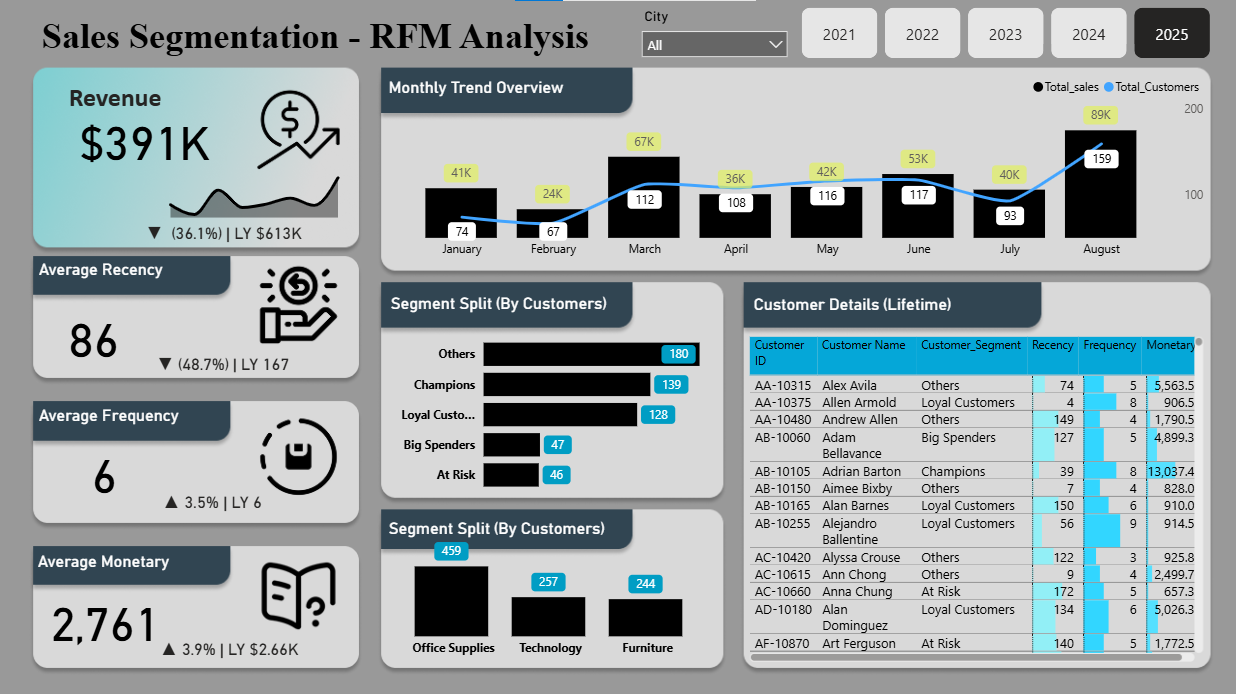

This screenshot's page, from the dashboard's own definition file:
{"tool":"powerbi","page":{"name":"Page 1","canvas":[1280,720],"ordinal":0},"visuals":[{"type":"textbox","box":[38.6,10,588.6,55.7],"z":0},{"type":"card","fields":{"Values":["My_Measures.Total_sales"]},"box":[44.3,107.1,210,71.4],"z":1000},{"type":"textbox","box":[65.7,80,145.7,52.9],"z":2000},{"type":"card","fields":{"Values":["My_Measures.AvgFrequency"]},"box":[75.7,454.3,64.3,67.1],"z":3000},{"type":"card","fields":{"Values":["My_Measures.AvgRecency"]},"box":[43.9,316.1,106.3,59.5],"z":4000},{"type":"card","fields":{"Values":["My_Measures.AvgMonetary"]},"box":[41.4,602.9,134.3,74.3],"z":5000},{"type":"textbox","box":[35.4,263.6,175.7,36.9],"z":6000},{"type":"textbox","box":[35.4,415.3,202.7,53.9],"z":7000},{"type":"textbox","box":[34,565.5,202.7,52.4],"z":8000},{"type":"card","fields":{"Values":["RFM_Calculation.YoY SalesVariance"]},"box":[129,222.5,204.1,38.3],"z":9000},{"type":"card","fields":{"Values":["My_Measures.YoY RecencyVar"]},"box":[140,362.9,181.4,25.7],"z":10000},{"type":"card","fields":{"Values":["My_Measures.YoY FrequencyVar"]},"box":[134.3,505.7,170,28.6],"z":11000},{"type":"card","fields":{"Values":["My_Measures.YoY MonetaryVar"]},"box":[150,657.1,174.3,31.4],"z":12000},{"type":"lineChart","fields":{"Category":["Date_Table.Month Number"],"Y":["My_Measures.Total_sales"]},"box":[136.1,163,228.2,66.6],"z":13000},{"type":"lineStackedColumnComboChart","fields":{"Y":["My_Measures.Total_sales"],"Category":["Date_Table.Month Name"],"Y2":["My_Measures.Total_Customers"]},"box":[397.1,70,852.9,205.7],"z":14000},{"type":"textbox","box":[397.1,75.7,277.1,52.9],"z":15000},{"type":"clusteredBarChart","fields":{"Category":["RFM_Calculation.Customer_Segment"],"Y":["RFM_Calculation.Customer ID"]},"box":[396.9,328.8,358.6,192.8],"z":16000},{"type":"textbox","box":[399.7,299.1,277.8,42.5],"z":17000},{"type":"clusteredColumnChart","fields":{"Category":["Superstore 2025.Category"],"Y":["My_Measures.Total_Customers"]},"box":[384.3,548.6,371.4,140],"z":18000},{"type":"textbox","box":[397.1,531.4,277.1,52.9],"z":19000},{"type":"tableEx","fields":{"Values":["RFM_Calculation.Customer ID","RFM_Calculation.Customer Name","RFM_Calculation.Customer_Segment","RFM_Calculation.Recency","RFM_Calculation.Frequency","RFM_Calculation.Monetary"]},"box":[769.6,343,480.5,345.8],"z":20000},{"type":"advancedSlicerVisual","fields":{"Values":["Date_Table.Year"]},"box":[824.3,2.9,435.7,62.9],"z":21000},{"type":"textbox","box":[775.3,300.5,277.8,41.1],"z":22000},{"type":"slicer","fields":{"Values":["Superstore 2025.City"]},"box":[653.4,4.3,171.5,63.8],"z":23000}]}

Visuals, with their boxes in screenshot pixels (x1, y1, x2, y2), scaled from the page's 1280x720 canvas onto the 1236x695 screenshot:
textbox: detection(37, 10, 606, 63)
card - My_Measures.Total_sales: detection(43, 103, 246, 172)
textbox: detection(63, 77, 204, 128)
card - My_Measures.AvgFrequency: detection(73, 439, 135, 503)
card - My_Measures.AvgRecency: detection(42, 305, 145, 363)
card - My_Measures.AvgMonetary: detection(40, 582, 170, 654)
textbox: detection(34, 254, 204, 290)
textbox: detection(34, 401, 230, 453)
textbox: detection(33, 546, 229, 596)
card - RFM_Calculation.YoY SalesVariance: detection(125, 215, 322, 252)
card - My_Measures.YoY RecencyVar: detection(135, 350, 310, 375)
card - My_Measures.YoY FrequencyVar: detection(130, 488, 294, 516)
card - My_Measures.YoY MonetaryVar: detection(145, 634, 313, 665)
lineChart - Date_Table.Month Number x My_Measures.Total_sales: detection(131, 157, 352, 222)
lineStackedColumnComboChart - My_Measures.Total_sales x Date_Table.Month Name: detection(383, 68, 1207, 266)
textbox: detection(383, 73, 651, 124)
clusteredBarChart - RFM_Calculation.Customer_Segment x RFM_Calculation.Customer ID: detection(383, 317, 730, 503)
textbox: detection(386, 289, 654, 330)
clusteredColumnChart - Superstore 2025.Category x My_Measures.Total_Customers: detection(371, 530, 730, 665)
textbox: detection(383, 513, 651, 564)
tableEx - RFM_Calculation.Customer ID x RFM_Calculation.Customer Name: detection(743, 331, 1207, 665)
advancedSlicerVisual - Date_Table.Year: detection(796, 3, 1217, 64)
textbox: detection(749, 290, 1017, 330)
slicer - Superstore 2025.City: detection(631, 4, 797, 66)
